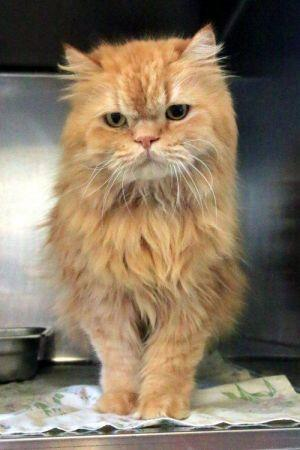persian: (51, 21, 237, 191)
